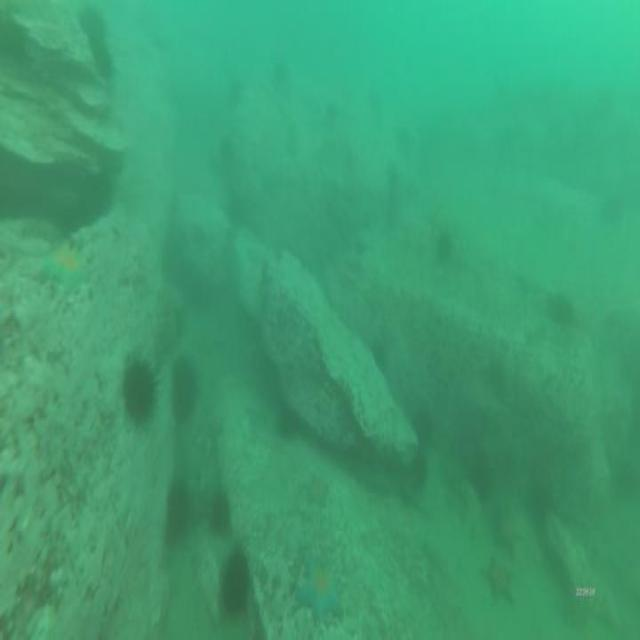echinus: (123, 362, 153, 419), (223, 551, 250, 607), (166, 479, 190, 537), (174, 364, 197, 417), (411, 406, 433, 444), (279, 404, 300, 441), (408, 452, 429, 488), (210, 498, 228, 531)
starfish: (295, 556, 344, 624), (41, 244, 90, 292), (482, 558, 514, 604), (302, 472, 329, 508)
